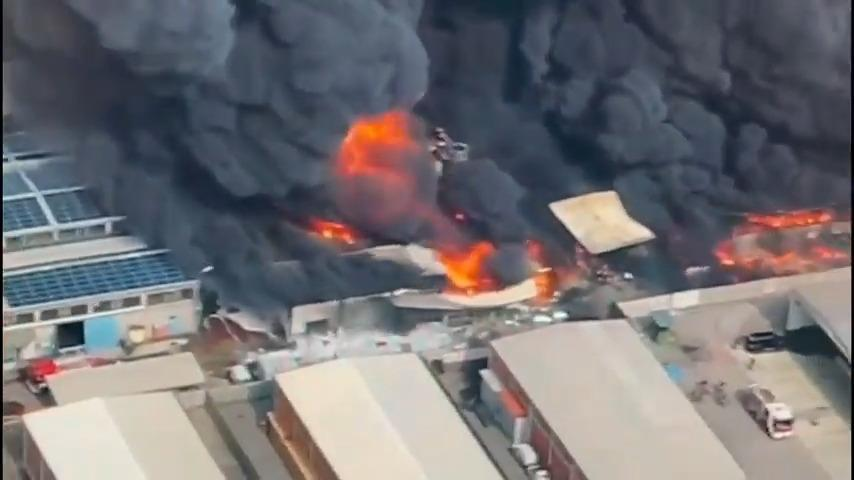fire: (320, 112, 439, 304), (716, 211, 854, 334), (463, 222, 578, 325)
smoke: (4, 2, 305, 329), (455, 0, 854, 201)
